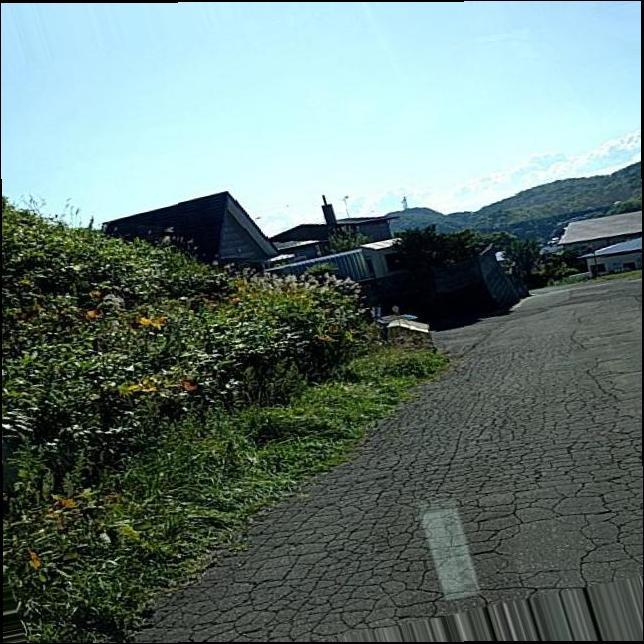Retak Buaya: (129, 342, 644, 644)
